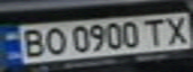0: (66, 22, 90, 54), (121, 18, 145, 48), (106, 20, 127, 51)
9: (87, 21, 109, 52)
B: (15, 27, 48, 60)
O: (39, 26, 69, 56)
T: (139, 16, 169, 46)
X: (160, 12, 193, 45)
